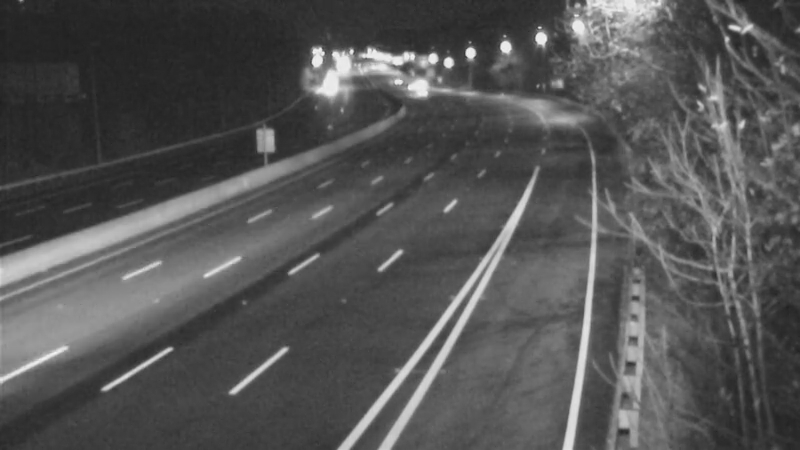vehicle: (368, 55, 418, 105), (391, 66, 441, 116)
